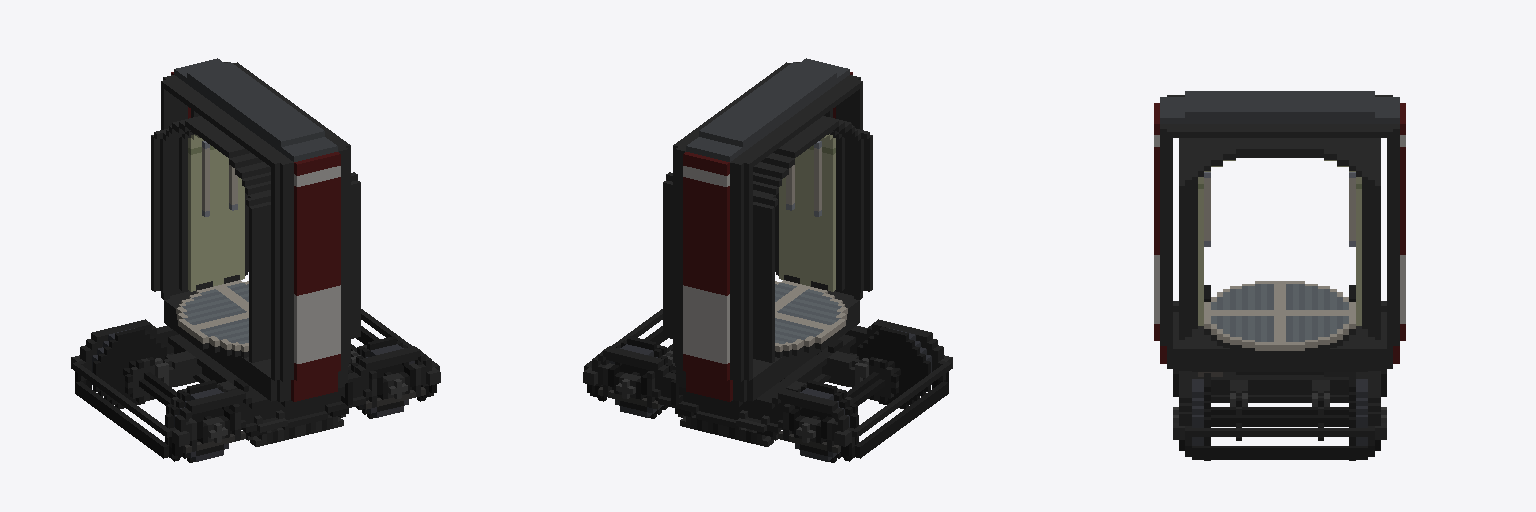
3 views of the same model, side by side, from view 1: azimuth 30°, elevation 25°; view 2: azimuth 150°, elevation 25°; view 3: azimuth 270°, elevation 25° (orthographic).
Parts seen in each view (by area): view 1: FRAME, FRAME_WHEEL_1, FRAME_WHEEL_2; view 2: FRAME, FRAME_WHEEL_1, FRAME_WHEEL_2; view 3: FRAME, FRAME_WHEEL_2.
Part boxes in pixels (x1,y1,x2,y2): FRAME: (71, 58, 440, 461); FRAME_WHEEL_1: (92, 327, 231, 462); FRAME_WHEEL_2: (348, 336, 414, 418); FRAME: (583, 58, 952, 461); FRAME_WHEEL_1: (792, 327, 931, 462); FRAME_WHEEL_2: (609, 336, 675, 418); FRAME: (1154, 91, 1405, 459); FRAME_WHEEL_2: (1192, 373, 1367, 460).
Size of the model in its own units: 3.12 by 3.38 by 2.5.
1 materials, 1 textured.